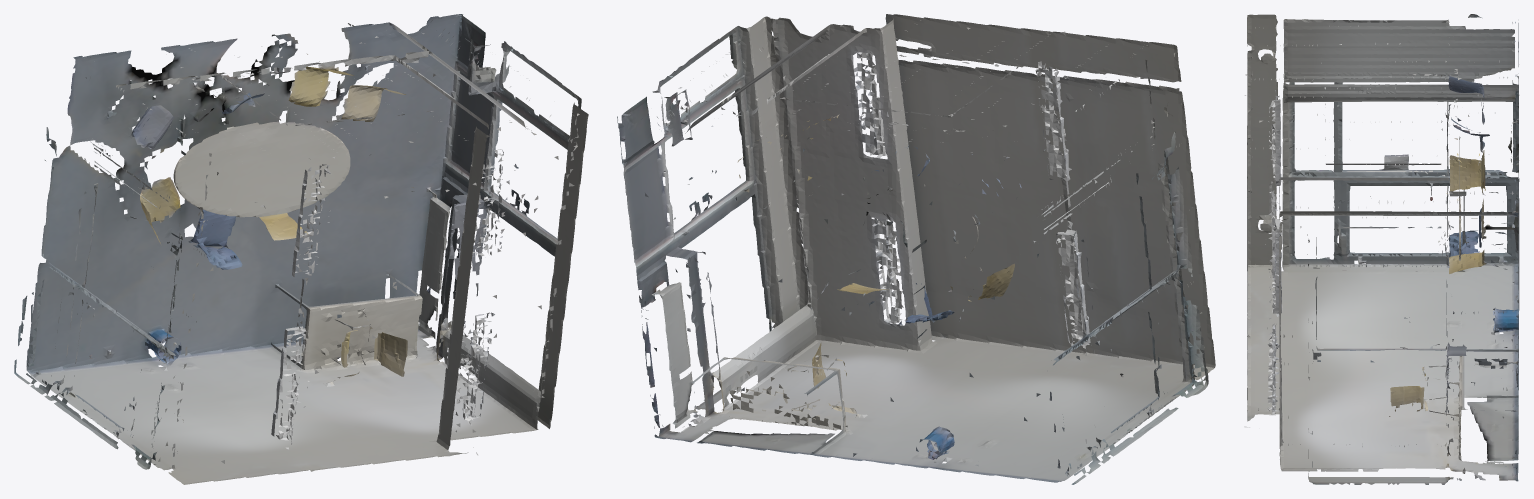
The picture shows the model from 3 angles, left to right: view 1: azimuth 30°, elevation 25°; view 2: azimuth 150°, elevation 25°; view 3: azimuth 270°, elevation 25°; orthographic projection. The views are drawn at different scales.
Bounding box in the file's own units: 5.54 × 4.25 × 3.33.
